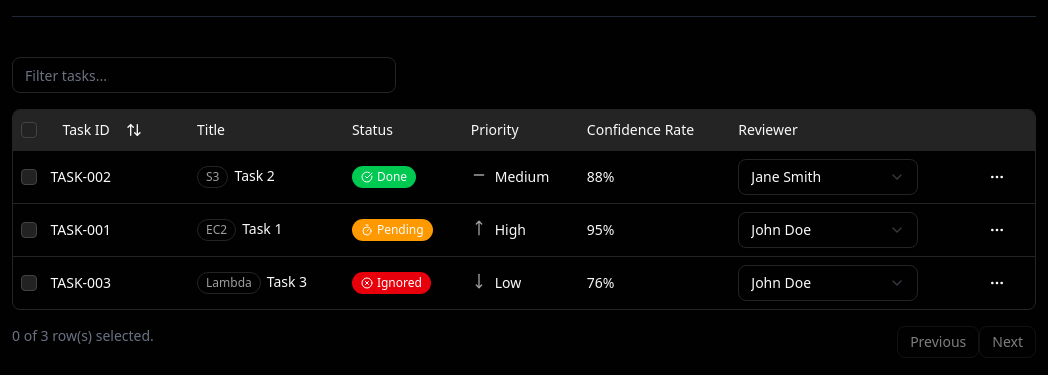
Test: TaskTable › shows the no-results row when the filter matches nothing
The width and height of the screenshot is (1048, 375).
Type "zzz" into the field with placeholder "Filter tasks..." at [204, 75], box [12,57,396,93]
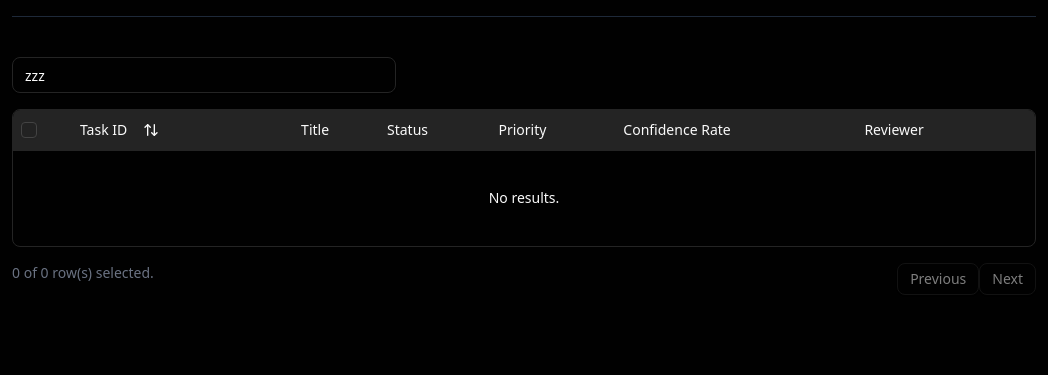
Result: the text "No results." is shown at [13,150,1035,246]
